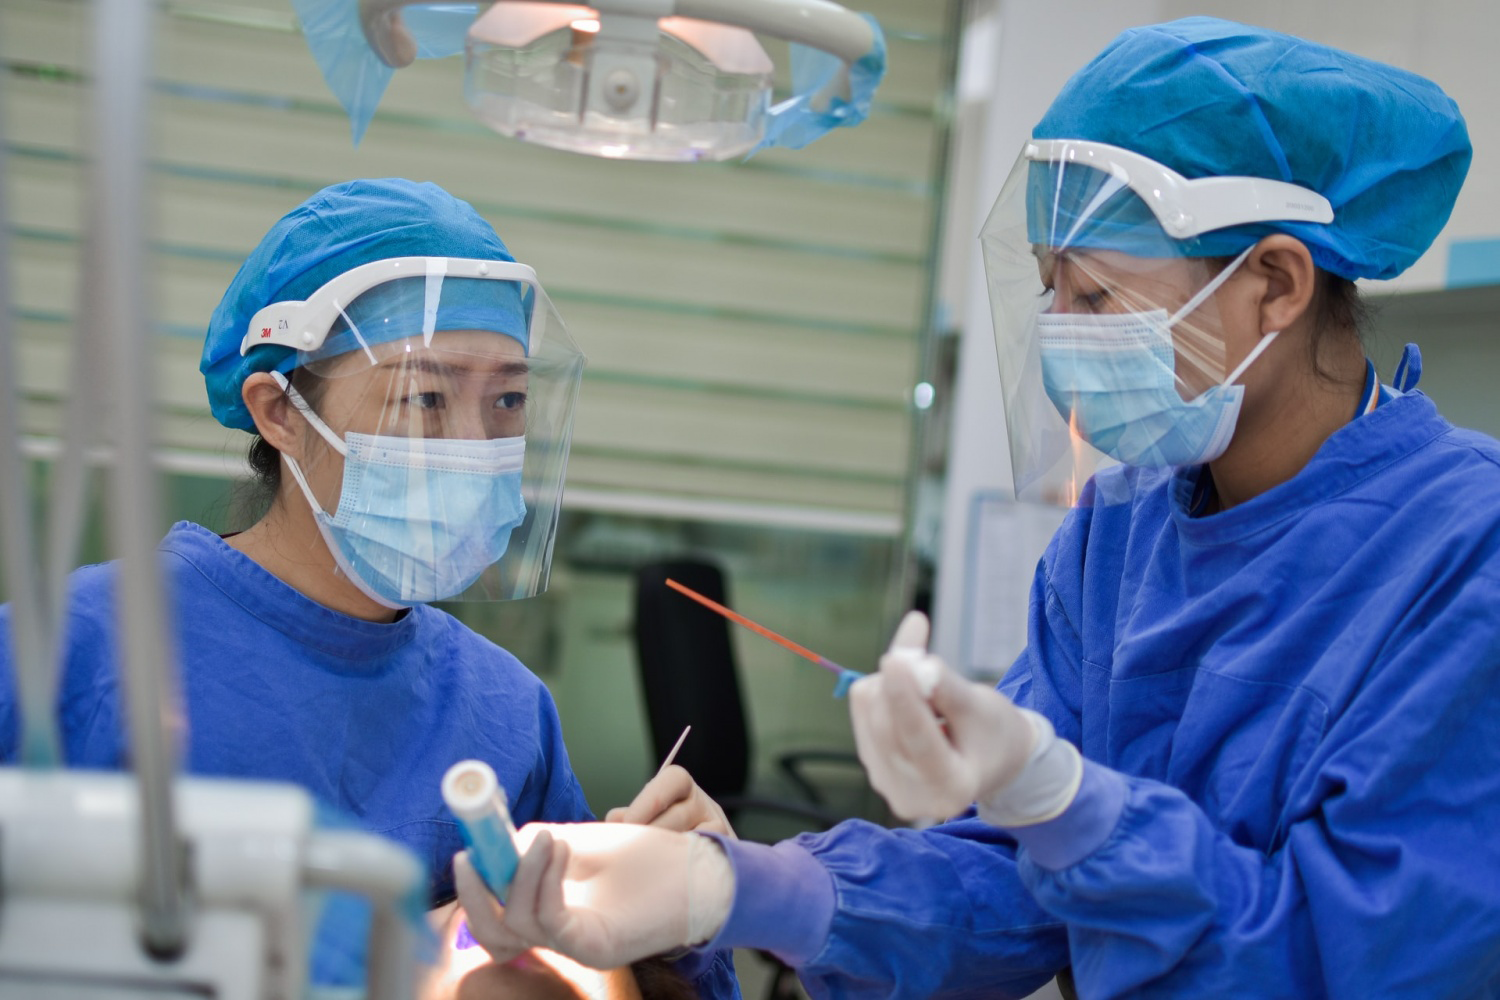Face Shield: (296, 258, 589, 614)
Gloves: (824, 605, 1106, 846), (450, 804, 728, 966)
with_mask: (328, 403, 528, 616), (1037, 275, 1246, 465)
